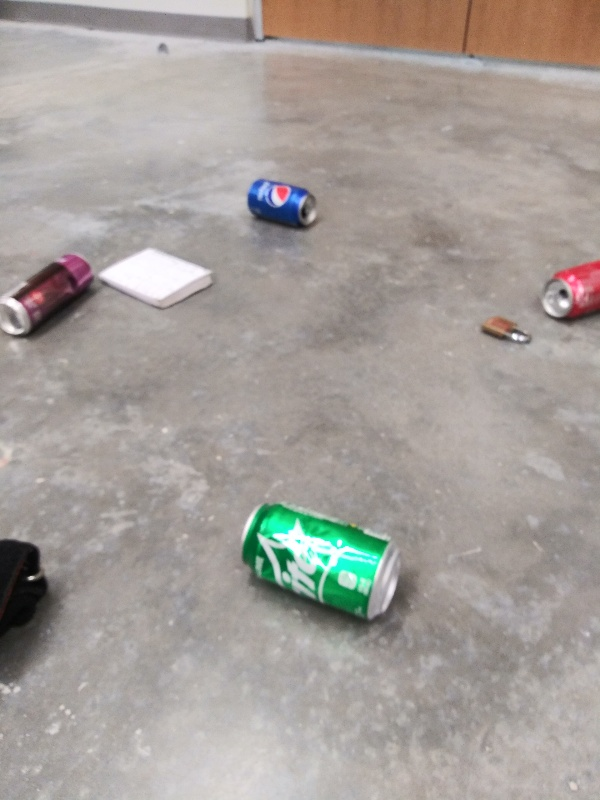can: (235, 498, 407, 623), (1, 248, 101, 343), (537, 253, 600, 326), (244, 175, 324, 232)
